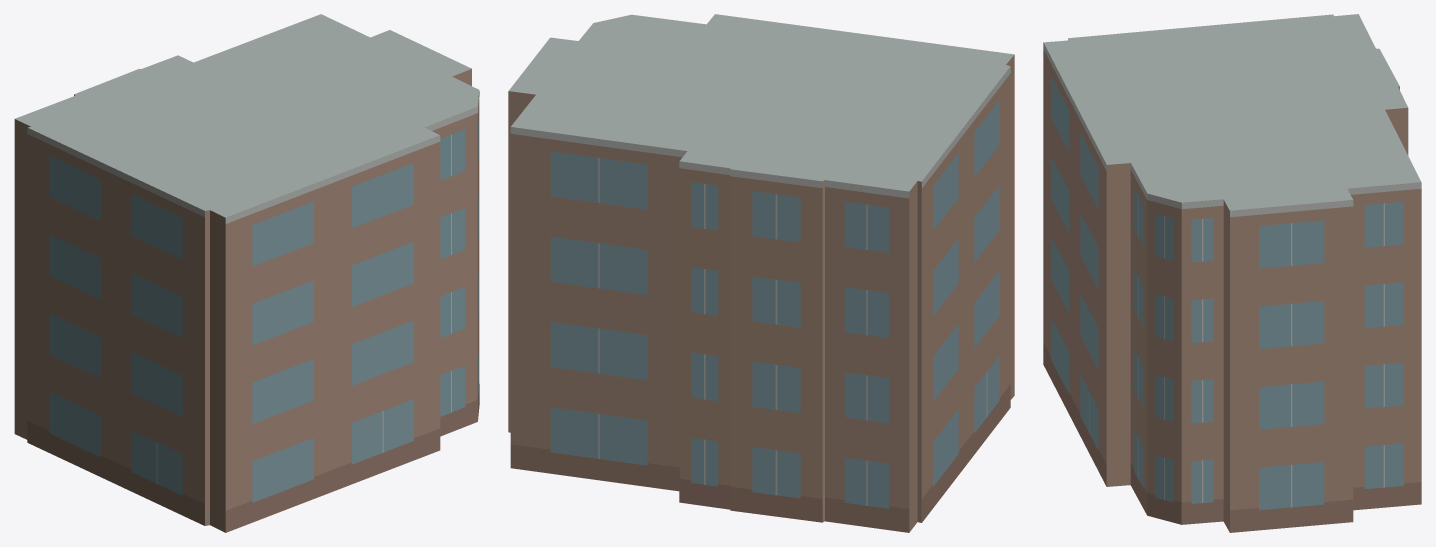
File: survey-upis-32867129.glb
The picture shows the model from 3 angles, left to right: view 1: azimuth 30°, elevation 25°; view 2: azimuth 150°, elevation 25°; view 3: azimuth 270°, elevation 25°; orthographic projection. The views are drawn at different scales.
Visible parts, largest first — view 1: survey-upis-32867129.tmp; view 2: survey-upis-32867129.tmp; view 3: survey-upis-32867129.tmp.
Part boxes in pixels (x1,y1,x2,y2): survey-upis-32867129.tmp: [14, 14, 479, 532]; survey-upis-32867129.tmp: [508, 14, 1014, 532]; survey-upis-32867129.tmp: [1043, 14, 1421, 532].
Size of the model in its own units: 15.86 by 12.1 by 12.88.
